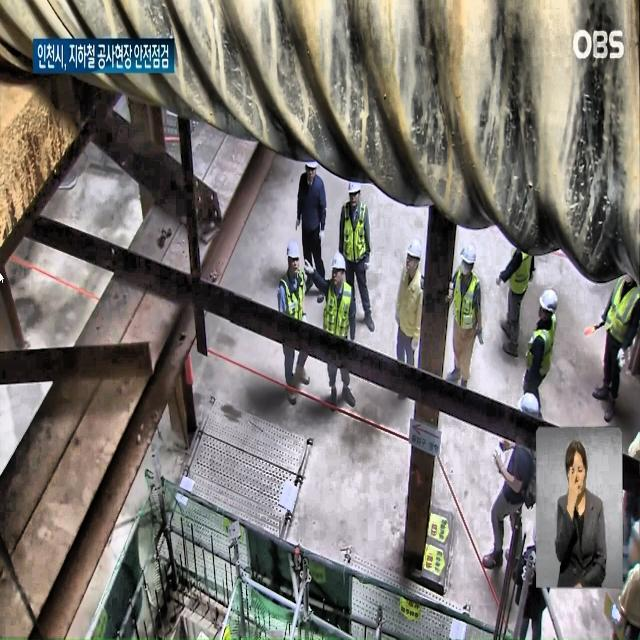safety_helmet: (522, 387, 548, 423), (539, 285, 563, 316), (347, 177, 367, 213), (305, 146, 323, 184), (461, 239, 479, 272), (407, 236, 427, 264), (332, 242, 350, 271), (287, 240, 303, 266)
safety_jacket: (605, 272, 639, 356), (276, 262, 308, 336), (326, 289, 366, 348), (522, 322, 556, 378), (456, 272, 487, 326), (341, 218, 374, 266), (505, 238, 532, 294)
